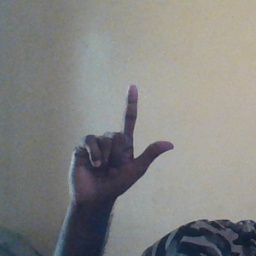L: (68, 83, 178, 201)
